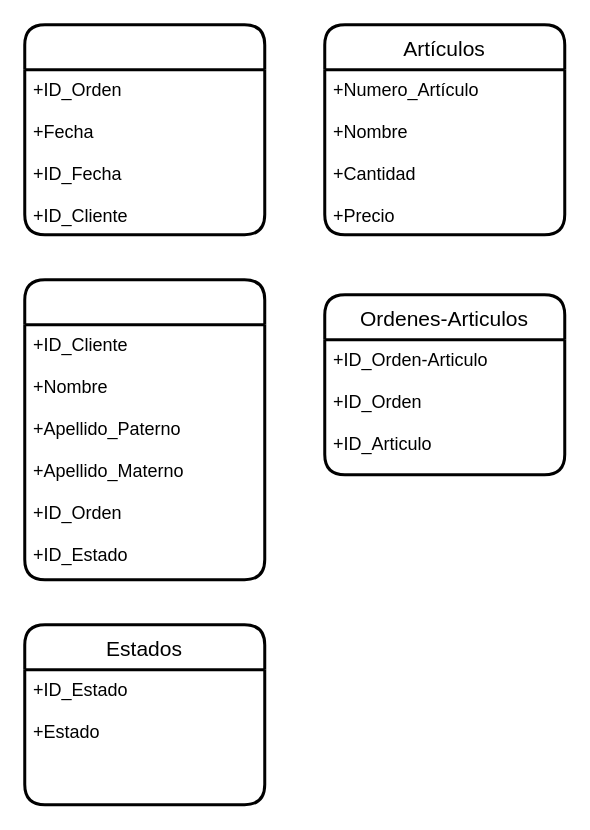
This 590x830 diagram has some shape labels left out. The box of each missing label's shape, as (x1, y1, x2, y2) in pixels:
Clientes: (22, 278, 266, 580)
Ordenes: (22, 22, 266, 236)
